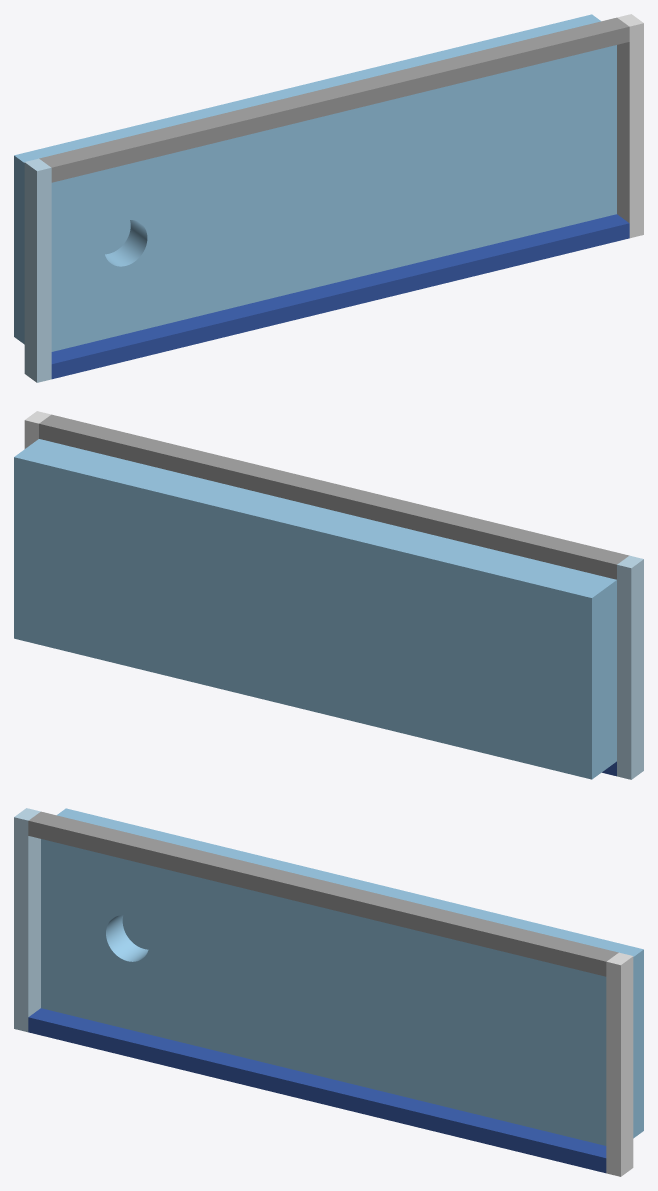
Rendered from Test hole one.obj.
3 views of the same model, one above another, from view 1: azimuth 30°, elevation 25°; view 2: azimuth 150°, elevation 25°; view 3: azimuth 330°, elevation 25° (orthographic).
Visible parts, largest first — view 1: mesh26, mesh22, mesh16, mesh14, mesh19, mesh29, mesh4, mesh10, mesh8, mesh0, mesh30, mesh25 (+1 smaller); view 2: mesh31, mesh29, mesh17, mesh14, mesh30, mesh11, mesh8; view 3: mesh26, mesh22, mesh16, mesh14, mesh19, mesh29, mesh4, mesh10, mesh2, mesh6, mesh28, mesh25 (+1 smaller).
Boxes of the visible parts, box(x1,y1,x2,y2) form: mesh26: box(51, 45, 616, 351); mesh22: box(51, 223, 629, 379); mesh16: box(51, 26, 629, 182); mesh14: box(39, 17, 628, 167); mesh19: box(51, 214, 628, 363); mesh29: box(14, 14, 600, 162); mesh4: box(629, 23, 643, 238); mesh10: box(37, 167, 51, 382); mesh8: box(24, 162, 36, 382); mesh0: box(617, 42, 629, 222); mesh30: box(14, 155, 24, 344); mesh25: box(105, 220, 147, 266); mesh31: box(14, 457, 591, 779); mesh29: box(14, 439, 616, 597); mesh17: box(39, 423, 616, 579); mesh14: box(39, 414, 629, 564); mesh30: box(592, 580, 616, 779); mesh11: box(617, 565, 631, 779); mesh8: box(631, 559, 643, 779); mesh26: box(41, 839, 606, 1145); mesh22: box(28, 1017, 606, 1173); mesh16: box(28, 820, 606, 976); mesh14: box(29, 811, 618, 961); mesh19: box(29, 1008, 606, 1157); mesh29: box(57, 808, 643, 956); mesh4: box(606, 961, 620, 1176); mesh10: box(14, 817, 28, 1032); mesh2: box(621, 956, 633, 1176); mesh6: box(28, 836, 40, 1016); mesh28: box(633, 949, 643, 1138); mesh25: box(106, 915, 148, 961).
Size of the model in its own units: 21 by 7 by 2.25.
